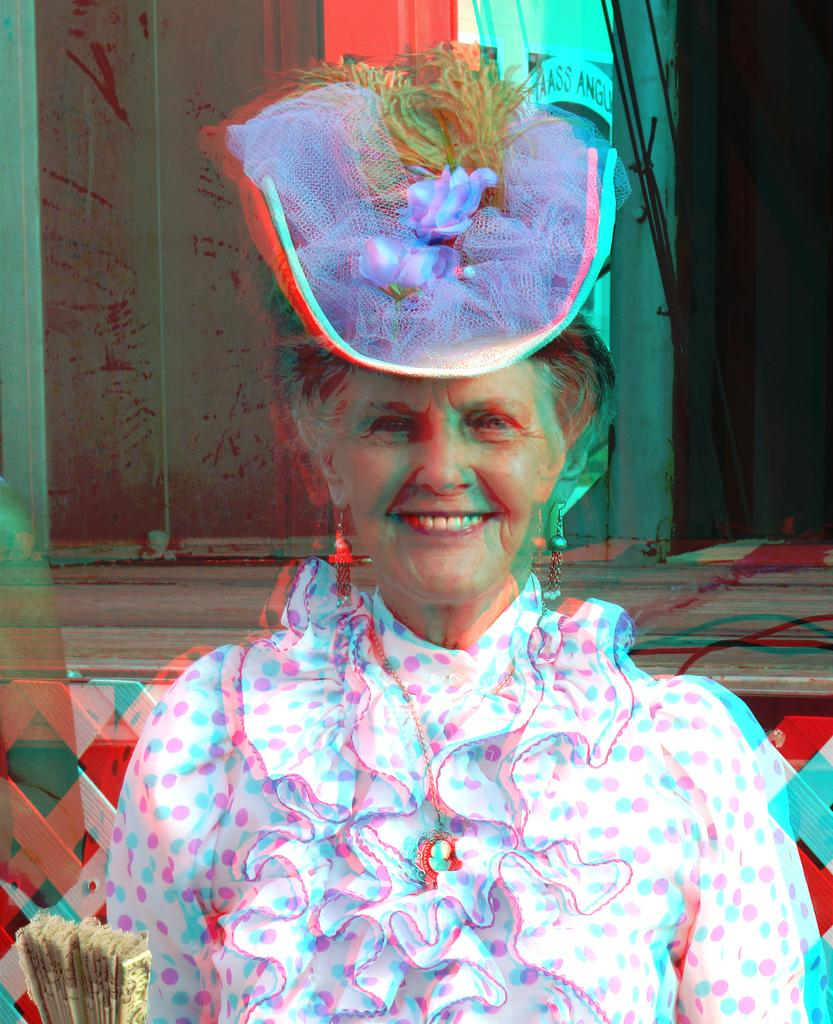Hat: (196, 34, 629, 370)
